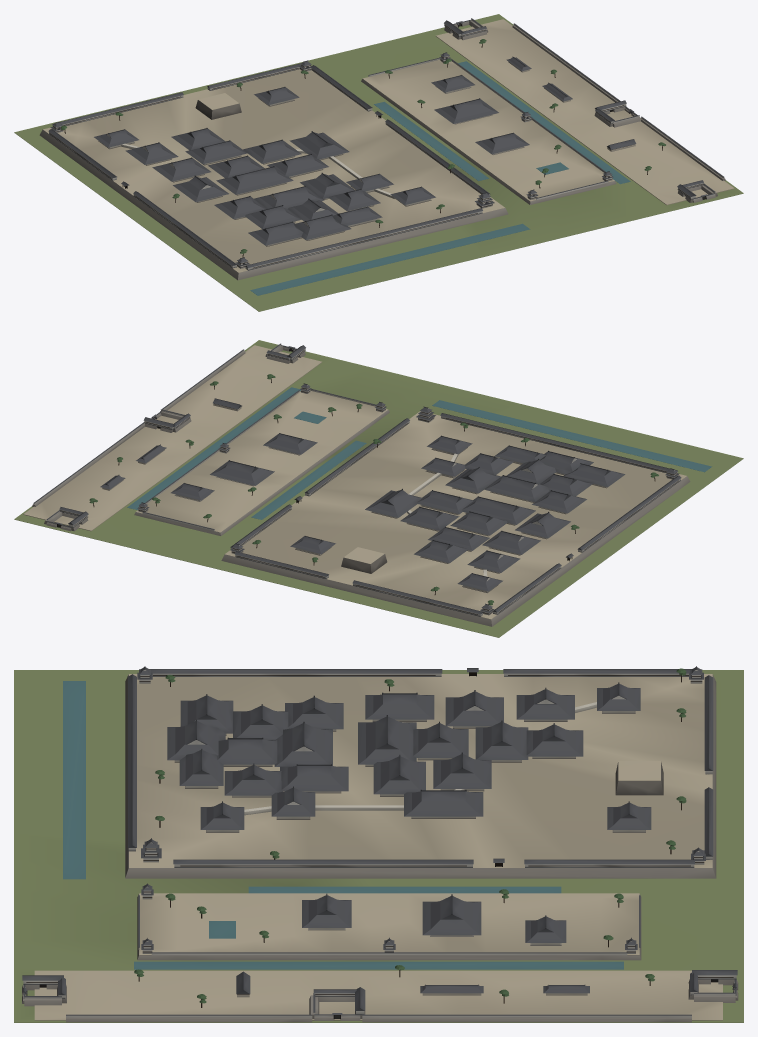
The model's file is edo-castle.glb.
3 renders of one model, top to bottom at view 1: azimuth 30°, elevation 25°; view 2: azimuth 150°, elevation 25°; view 3: azimuth 270°, elevation 25°, orthographic. The views are drawn at different scales.
Visible parts, largest first — view 1: p0_ishigaki, p2_palaces, p1_walls; view 2: p0_ishigaki, p2_palaces, p1_walls; view 3: p0_ishigaki, p2_palaces, p1_walls.
Boxes of the visible parts, box(x1,y1,x2,y2) form: p0_ishigaki: box(14, 14, 743, 311); p2_palaces: box(61, 39, 665, 257); p1_walls: box(48, 18, 725, 270); p0_ishigaki: box(14, 340, 743, 637); p2_palaces: box(89, 374, 658, 605); p1_walls: box(32, 343, 681, 616); p0_ishigaki: box(14, 670, 743, 1022); p2_palaces: box(134, 668, 686, 1007); p1_walls: box(22, 666, 738, 1022).
Bounding box in the file's own units: 800 × 31.15 × 700.
